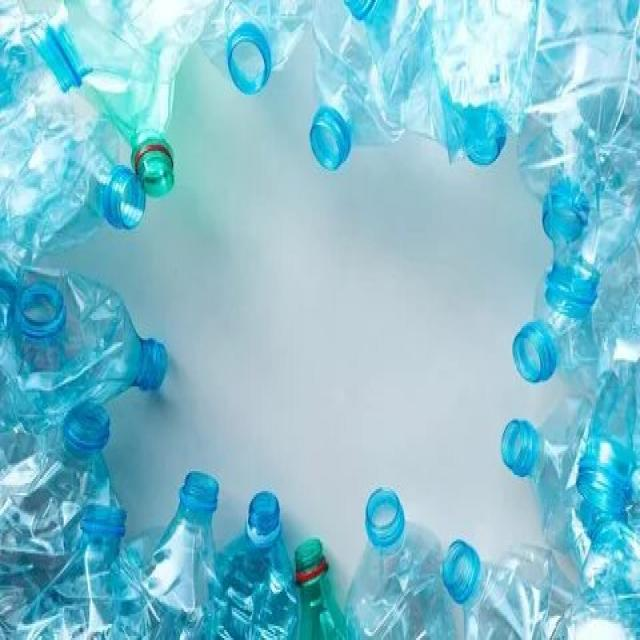blue: (11, 278, 167, 434), (341, 485, 459, 640), (311, 2, 402, 164), (144, 476, 219, 639)
green: (89, 74, 178, 201), (292, 542, 346, 639)
